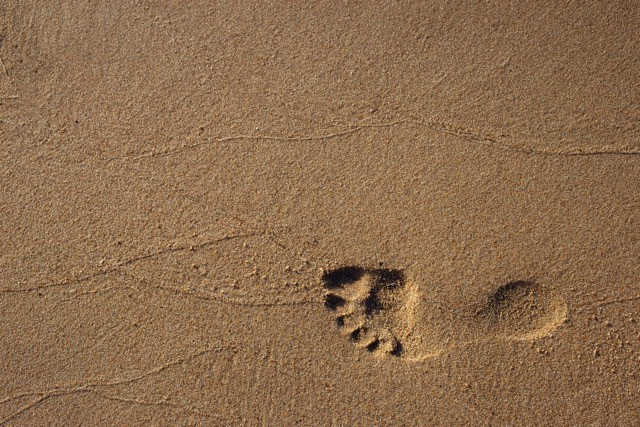human_footprint: (312, 263, 579, 357)
